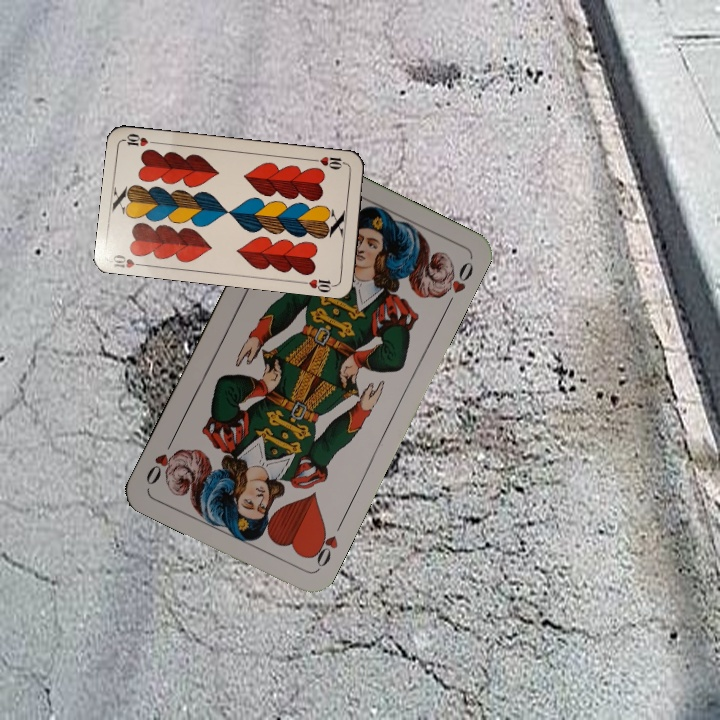H10: (109, 250, 149, 271), (309, 152, 350, 172)
HO: (305, 517, 346, 572)
